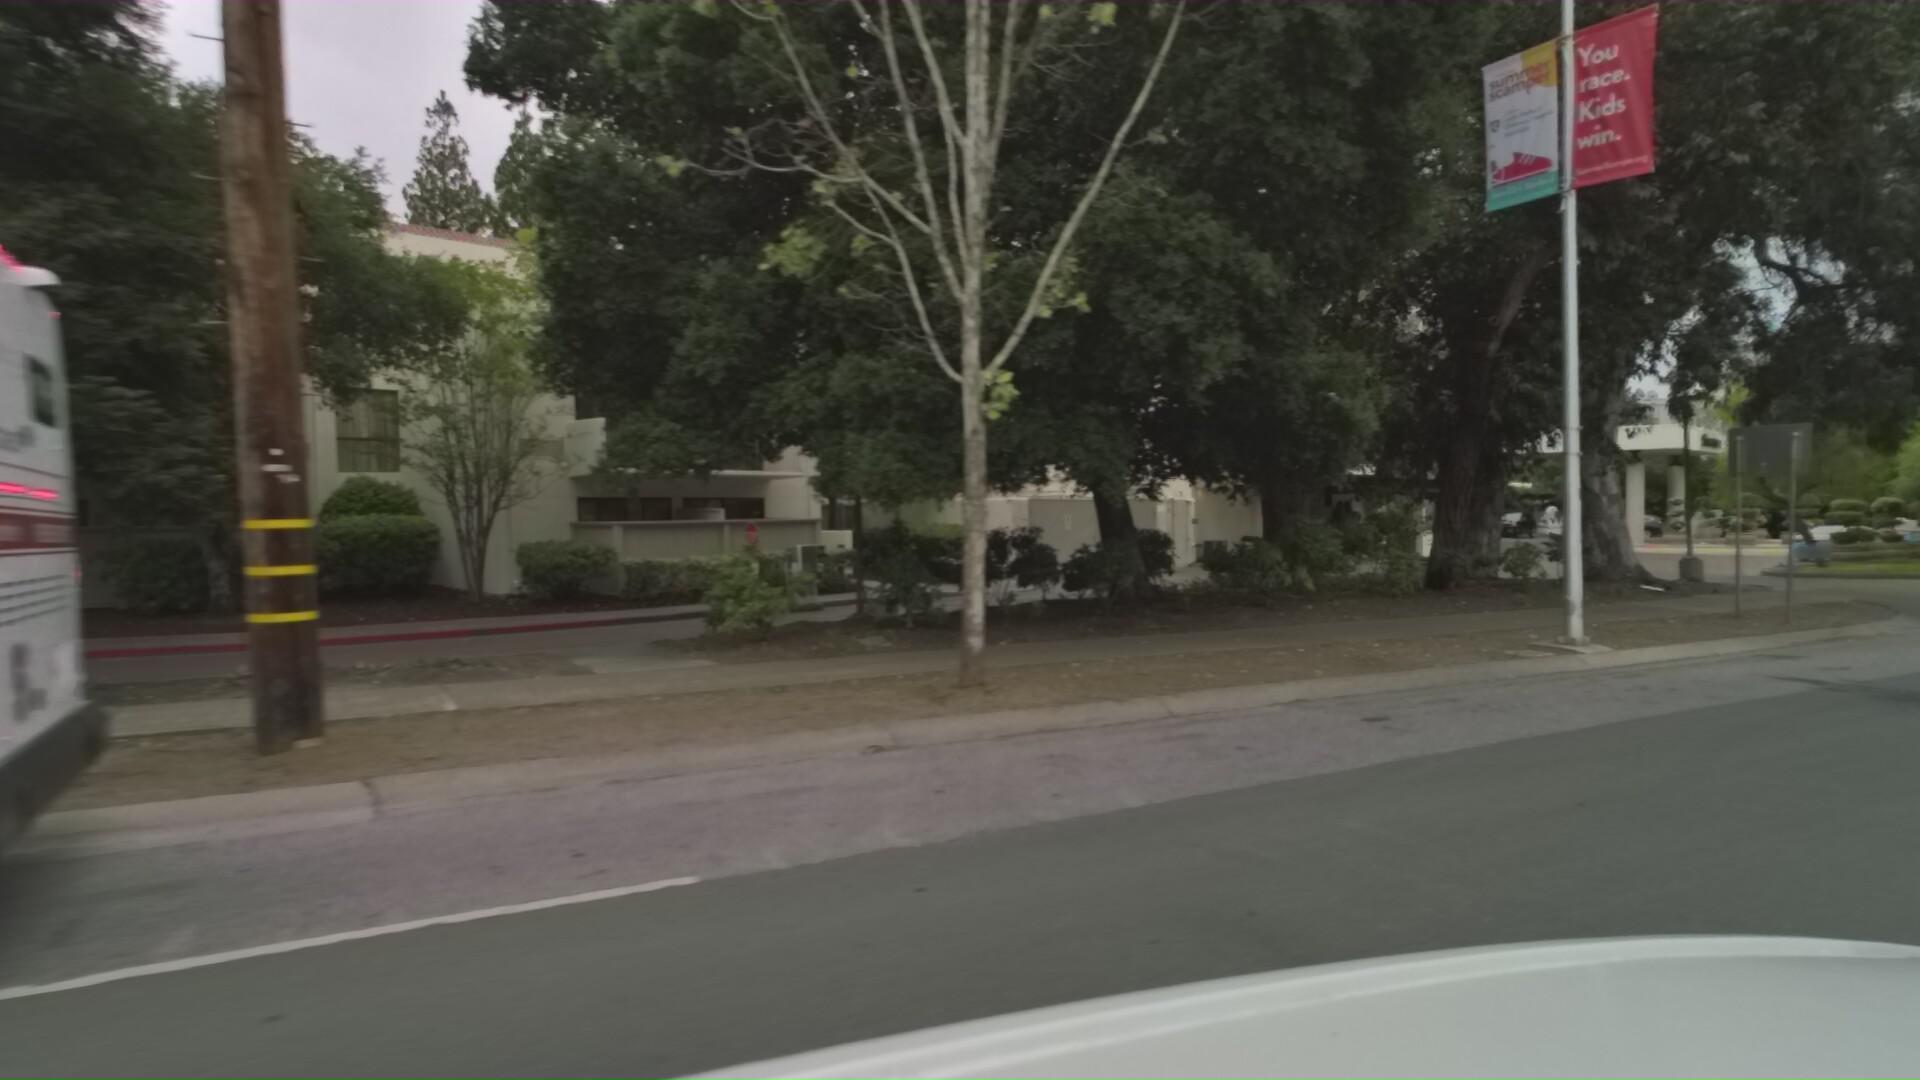bus: (1702, 485, 1845, 535)
car: (1776, 513, 1920, 558), (1580, 506, 1671, 535), (1481, 506, 1545, 535), (1870, 512, 1920, 545)
